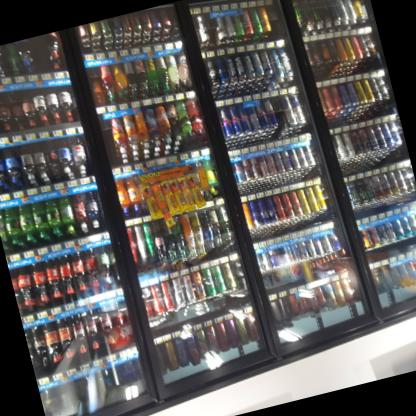empty_space: (70, 373, 115, 416), (99, 116, 122, 168), (29, 35, 52, 74)
